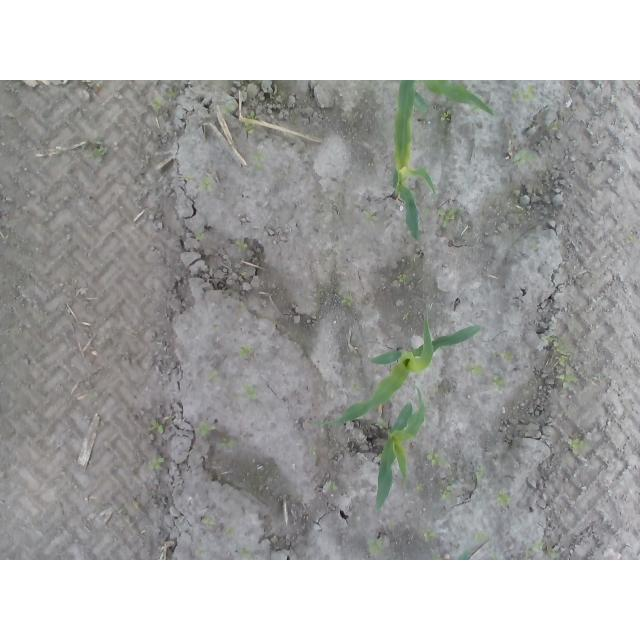Maize: (304, 310, 482, 427), (392, 83, 436, 242), (377, 384, 427, 509), (401, 80, 496, 118)
Weeds: (539, 335, 578, 390), (438, 205, 463, 231), (527, 542, 562, 559), (85, 138, 112, 158), (569, 437, 592, 458), (511, 85, 537, 102), (513, 150, 538, 166), (425, 452, 448, 469), (497, 487, 514, 509), (146, 419, 166, 437), (251, 151, 265, 176), (197, 420, 211, 444), (242, 112, 258, 132), (363, 208, 381, 225), (149, 96, 166, 113), (369, 538, 386, 555), (242, 385, 257, 403), (475, 463, 485, 490), (217, 438, 237, 451), (198, 176, 214, 192), (490, 377, 503, 396), (469, 363, 484, 379), (149, 456, 163, 473), (375, 415, 390, 429), (209, 371, 223, 385), (197, 225, 207, 244), (240, 346, 253, 360), (440, 489, 454, 502), (342, 292, 353, 308), (425, 531, 439, 543), (387, 522, 401, 534), (551, 118, 563, 132), (498, 352, 516, 361), (236, 239, 248, 252), (395, 273, 407, 286), (325, 481, 339, 492), (164, 90, 176, 101), (226, 528, 238, 539), (237, 552, 251, 560), (222, 104, 235, 112), (416, 482, 425, 493), (475, 532, 485, 541), (195, 551, 205, 560), (85, 390, 95, 398)
